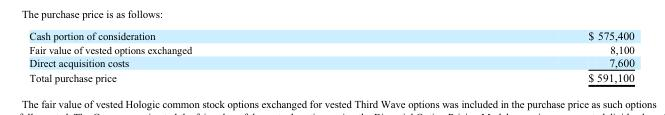table: (28, 29, 633, 83)
table column: (28, 29, 389, 83), (389, 29, 633, 83)
table row: (28, 55, 633, 69), (28, 69, 633, 83), (28, 29, 633, 42), (28, 42, 633, 55)
